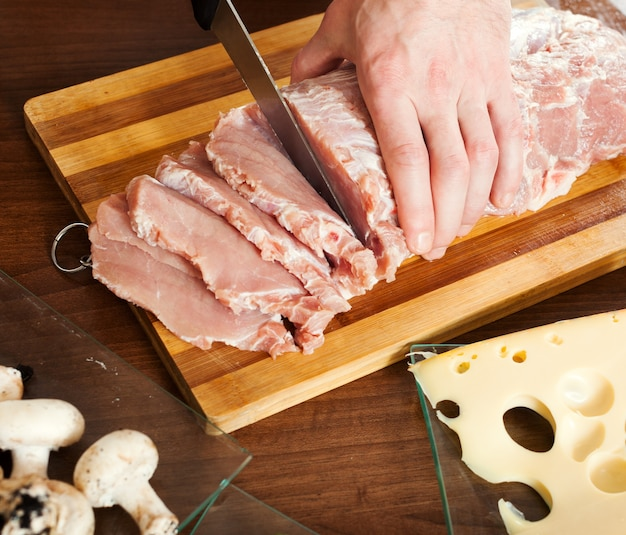knife: (190, 0, 357, 235)
